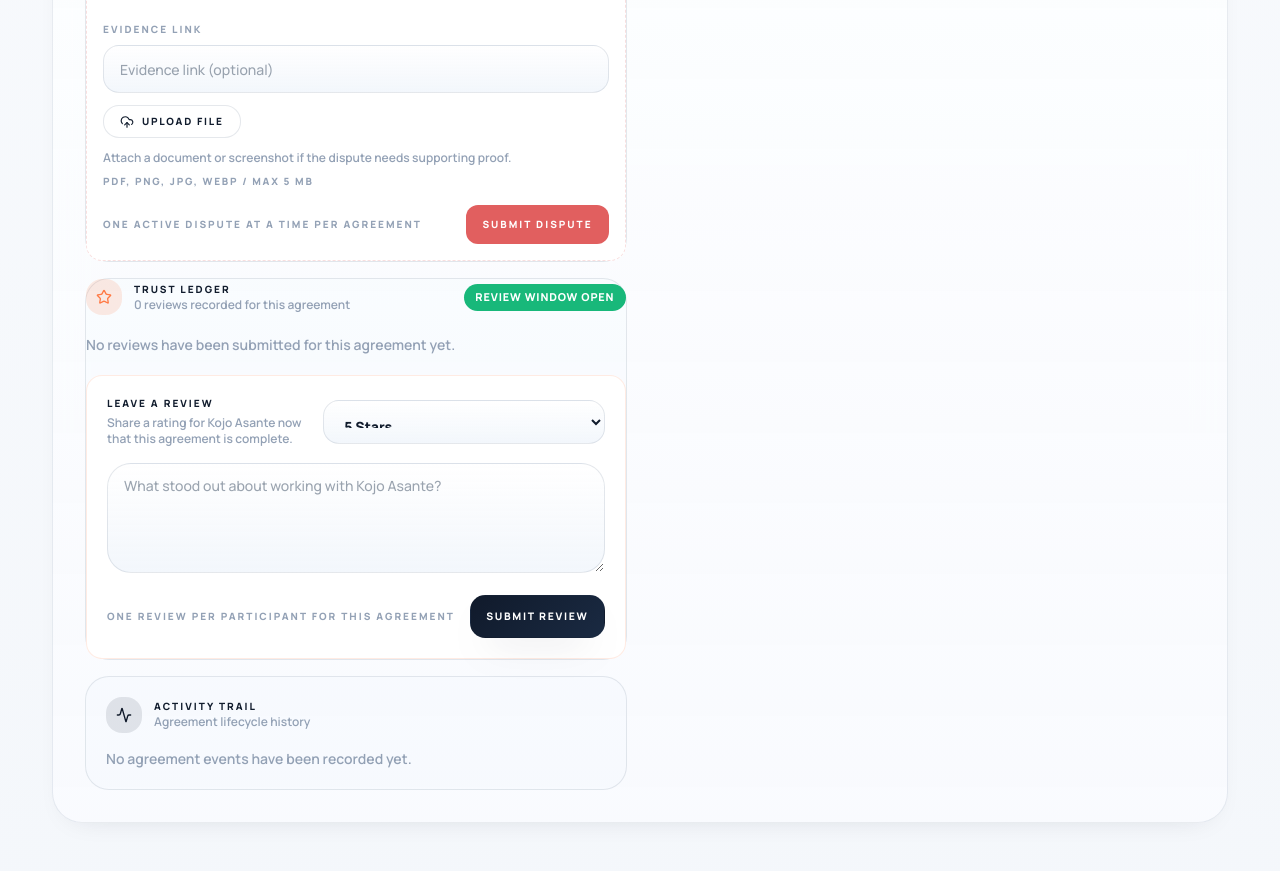
Test: Agreements lifecycle flow › submits a review for a completed agreement and reloads the trust ledger
(page scrolled)
Step 1. Select "5 Stars" in the dropdown → (464, 422), box [323,400,605,444]
Step 2. Type "Clear communication and strong delivery quality." into the text box with placeholder "What stood out about working with Kojo Asante?" → (356, 518), box [107,463,605,573]
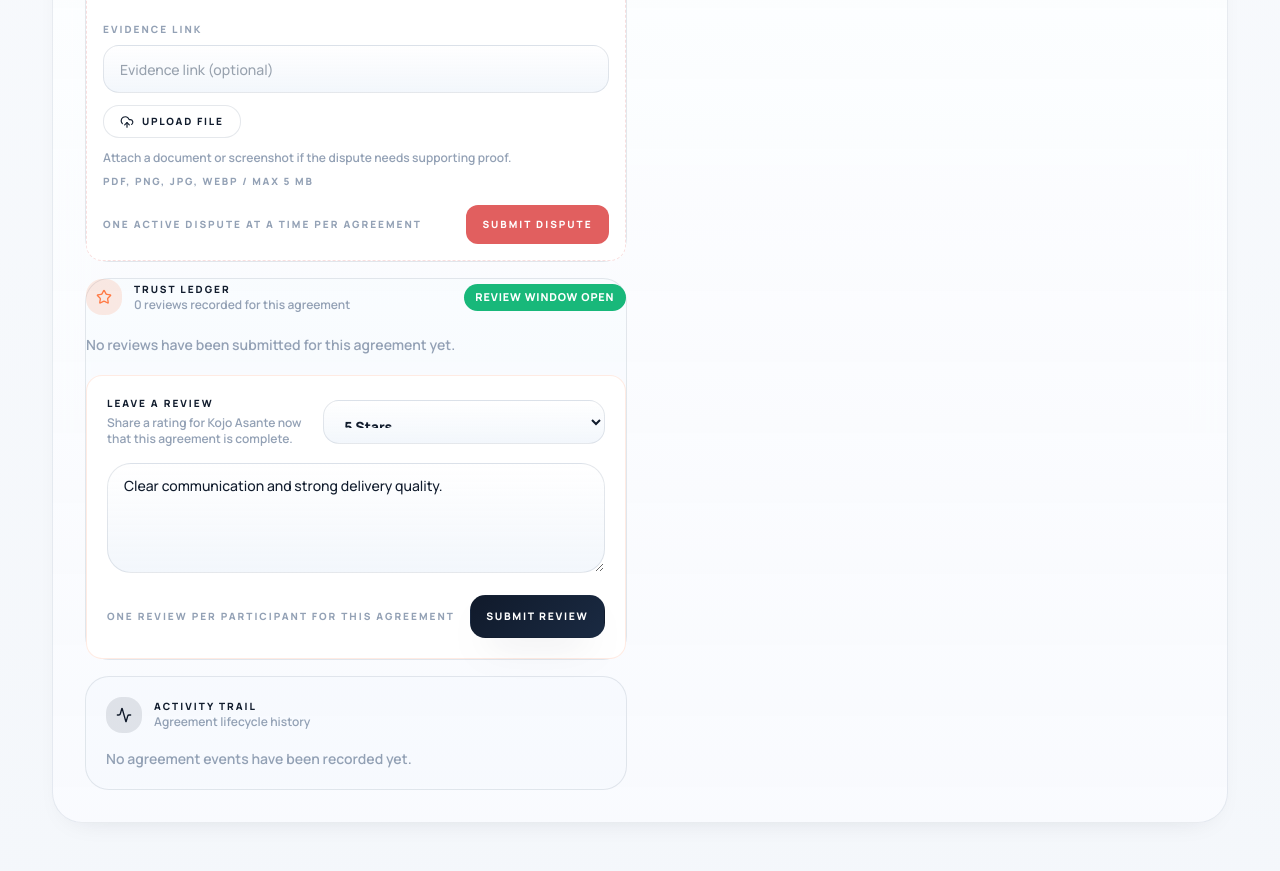
Step 3. Click the button "Submit Review" → (537, 616), box [470,595,605,638]
(page scrolled)
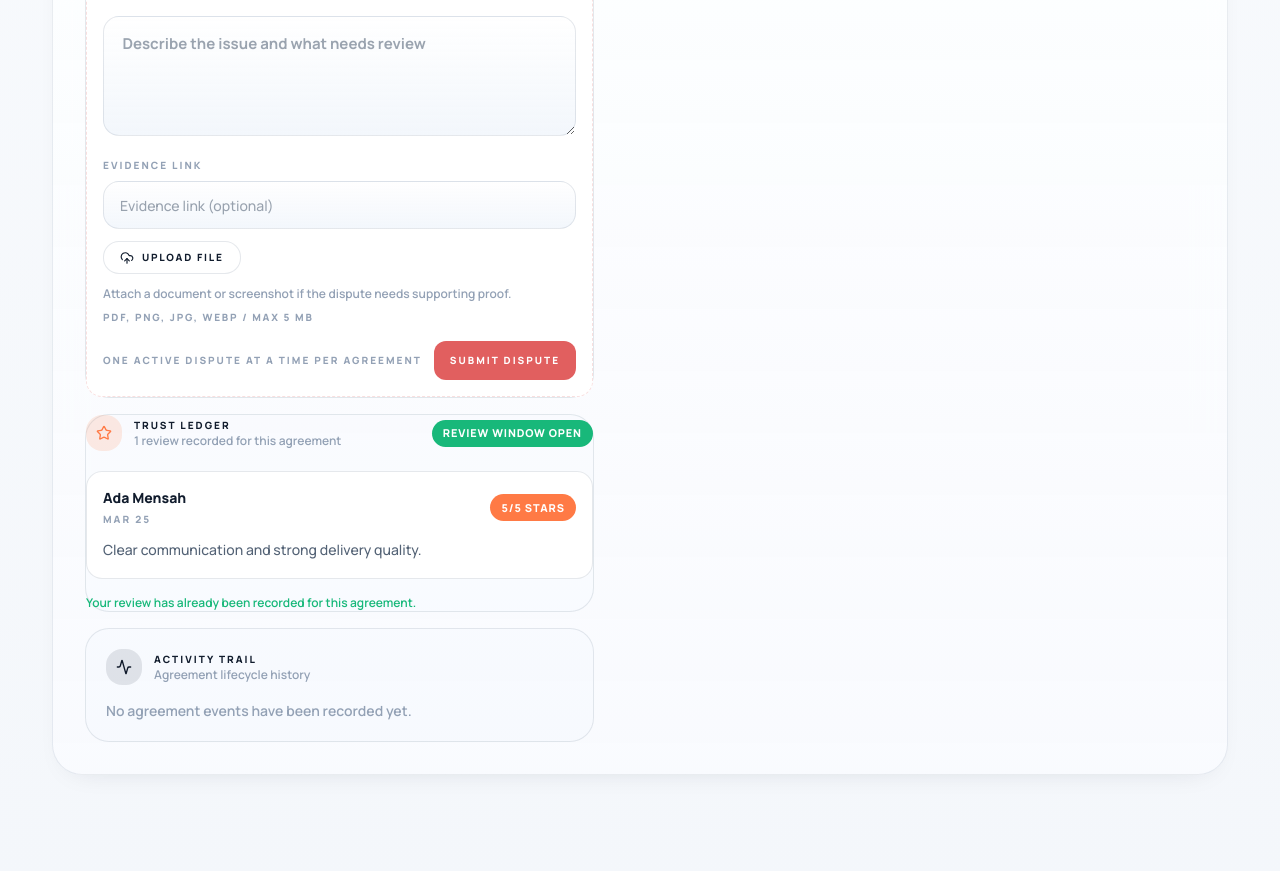
Result: the text "Your review has already been recorded for this agreement." is shown at [86,594,416,611]
Result: the text "5/5 stars" is shown at [490,494,576,521]
